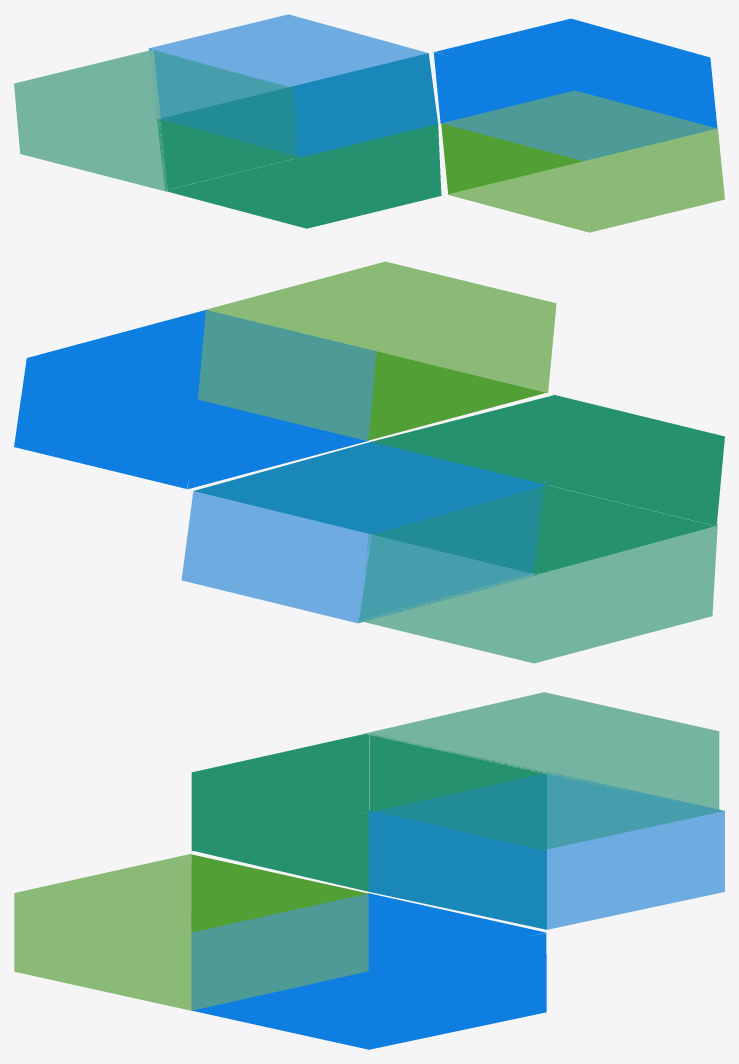
File: hycodev.gltf
The picture shows the model from 3 angles, top to bottom: view 1: azimuth 30°, elevation 25°; view 2: azimuth 150°, elevation 25°; view 3: azimuth 270°, elevation 25°; orthographic projection. The views are drawn at different scales.
Visible parts, largest first — view 1: Curve.002, Curve, Curve.001, Curve.004, Curve.009, Curve.007, Curve.010, Curve.012, Curve.013, Curve.017, Curve.015, Curve.011 (+6 smaller); view 2: Curve.002, Curve.001, Curve, Curve.004, Curve.009, Curve.007, Curve.010, Curve.012, Curve.008, Curve.013, Curve.011, Curve.014 (+6 smaller); view 3: Curve.002, Curve, Curve.001, Curve.004, Curve.007, Curve.013, Curve.009, Curve.011, Curve.008, Curve.014, Curve.010, Curve.012 (+6 smaller).
Part boxes in pixels (left/top/right/bottom): Curve.002: left=14, top=49, right=167, bottom=191; Curve: left=148, top=14, right=428, bottom=86; Curve.001: left=289, top=53, right=437, bottom=157; Curve.004: left=435, top=18, right=709, bottom=91; Curve.009: left=157, top=118, right=297, bottom=189; Curve.007: left=301, top=124, right=441, bottom=195; Curve.010: left=165, top=157, right=306, bottom=228; Curve.012: left=582, top=161, right=723, bottom=232; Curve.013: left=583, top=128, right=724, bottom=199; Curve.017: left=441, top=123, right=582, bottom=193; Curve.015: left=575, top=57, right=717, bottom=128; Curve.011: left=447, top=162, right=589, bottom=232; Curve.002: left=360, top=524, right=717, bottom=663; Curve.001: left=194, top=442, right=547, bottom=534; Curve: left=181, top=491, right=371, bottom=623; Curve.004: left=14, top=358, right=201, bottom=488; Curve.009: left=533, top=485, right=714, bottom=575; Curve.007: left=371, top=395, right=554, bottom=484; Curve.010: left=545, top=436, right=724, bottom=526; Curve.012: left=377, top=261, right=555, bottom=351; Curve.008: left=545, top=394, right=724, bottom=484; Curve.013: left=207, top=261, right=385, bottom=351; Curve.011: left=377, top=303, right=556, bottom=392; Curve.014: left=198, top=309, right=375, bottom=399; Curve.002: left=364, top=692, right=719, bottom=809; Curve: left=547, top=811, right=724, bottom=929; Curve.001: left=369, top=810, right=546, bottom=929; Curve.004: left=368, top=933, right=546, bottom=1049; Curve.007: left=192, top=812, right=368, bottom=891; Curve.013: left=15, top=932, right=191, bottom=1010; Curve.009: left=369, top=734, right=546, bottom=811; Curve.011: left=15, top=853, right=191, bottom=931; Curve.008: left=191, top=772, right=368, bottom=850; Curve.014: left=191, top=932, right=367, bottom=1010; Curve.010: left=192, top=734, right=368, bottom=811; Curve.012: left=14, top=893, right=190, bottom=971.
Bounding box in the file's own units: 0.269 × 0 × 0.226.
